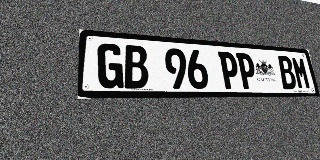6: (185, 49, 209, 89)
9: (164, 48, 189, 89)
B: (123, 45, 149, 89), (276, 56, 298, 89)
G: (97, 43, 124, 88)
M: (291, 57, 312, 89)
P: (218, 51, 241, 89), (236, 53, 258, 89)
